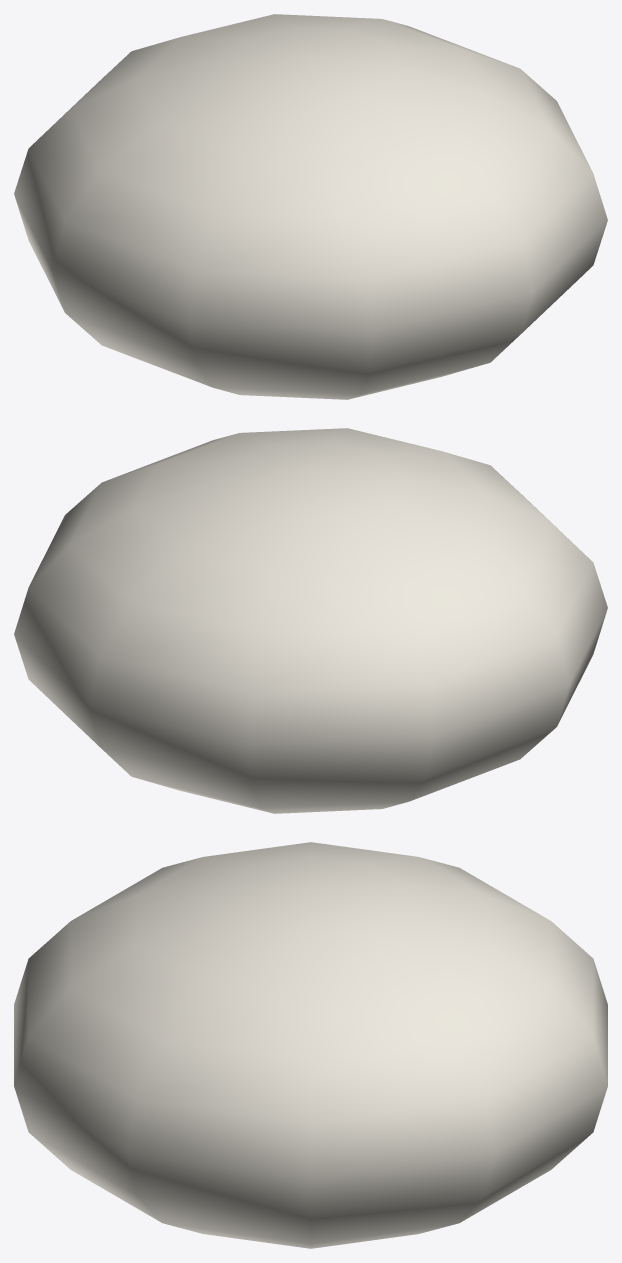
File: M_Snow_A.fbx
3 views of the same model, one above another, from view 1: azimuth 30°, elevation 25°; view 2: azimuth 150°, elevation 25°; view 3: azimuth 270°, elevation 25° (orthographic). The views are drawn at different scales.
Visible parts, largest first — view 1: M_Snow_A; view 2: M_Snow_A; view 3: M_Snow_A.
Boxes of the visible parts, x1=… form: M_Snow_A: x1=14, y1=14, x2=607, y2=399; M_Snow_A: x1=14, y1=428, x2=607, y2=813; M_Snow_A: x1=14, y1=842, x2=607, y2=1248.
Bounding box in the file's own units: 1719 × 944 × 1635.
1 material, 1 textured.
